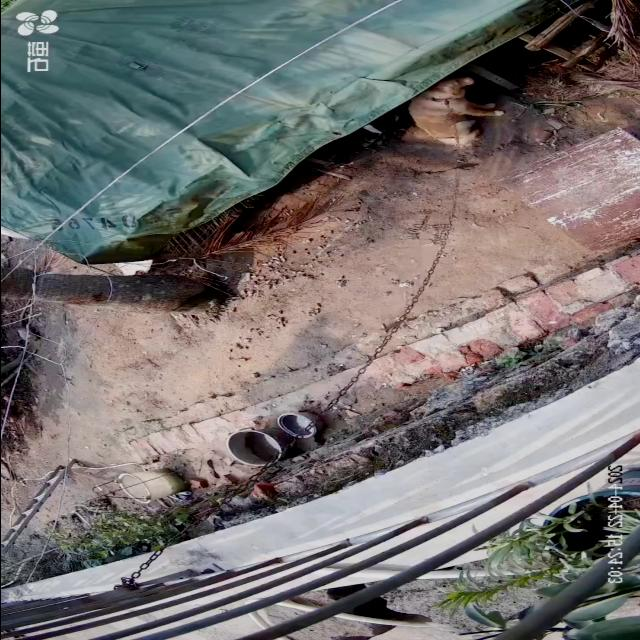dog: (407, 75, 506, 149)
